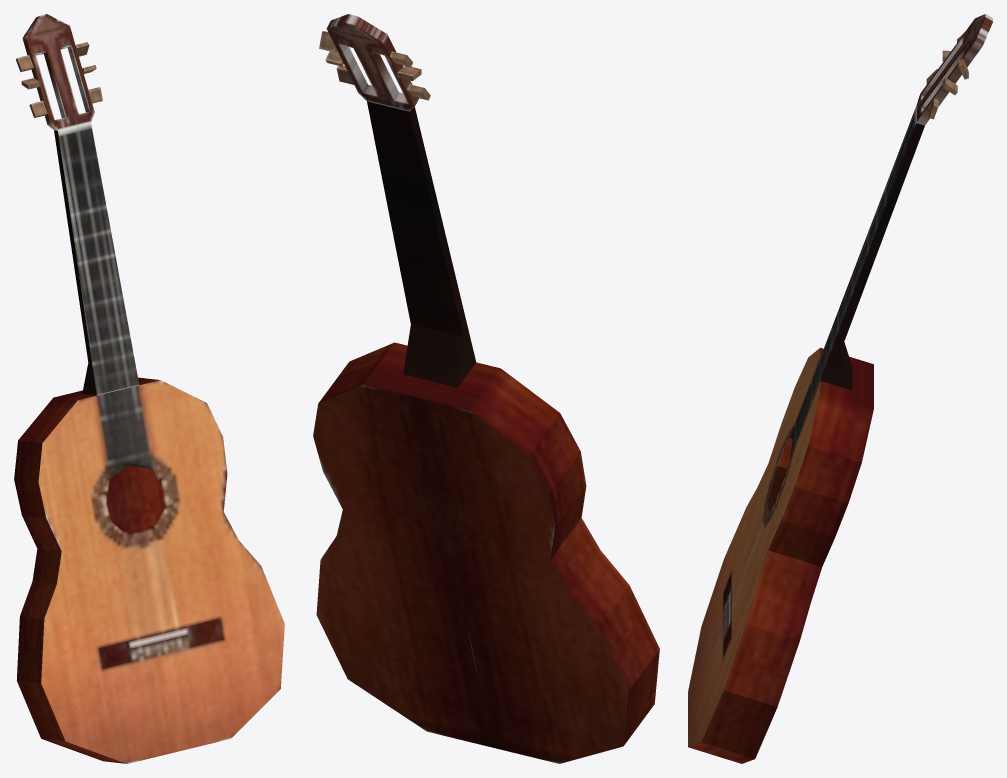
The model's file is Classical_Guitar_-_PS1_Low_Poly.glb.
The picture shows the model from 3 angles, left to right: view 1: azimuth 30°, elevation 25°; view 2: azimuth 150°, elevation 25°; view 3: azimuth 270°, elevation 25°; orthographic projection. The views are drawn at different scales.
Visible parts, largest first — view 1: Cube.005_Guitar_0; view 2: Cube.005_Guitar_0; view 3: Cube.005_Guitar_0.
Part boxes in pixels (left/top/right/bottom): Cube.005_Guitar_0: left=14, top=14, right=284, bottom=763; Cube.005_Guitar_0: left=313, top=14, right=659, bottom=763; Cube.005_Guitar_0: left=688, top=14, right=992, bottom=763.
Size of the model in its own units: 6.31 by 16.16 by 6.2.
Materials: 1 (1 with a texture image).
